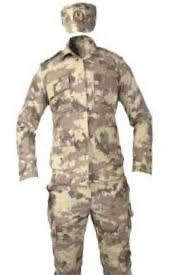uniform: (12, 3, 157, 272)
